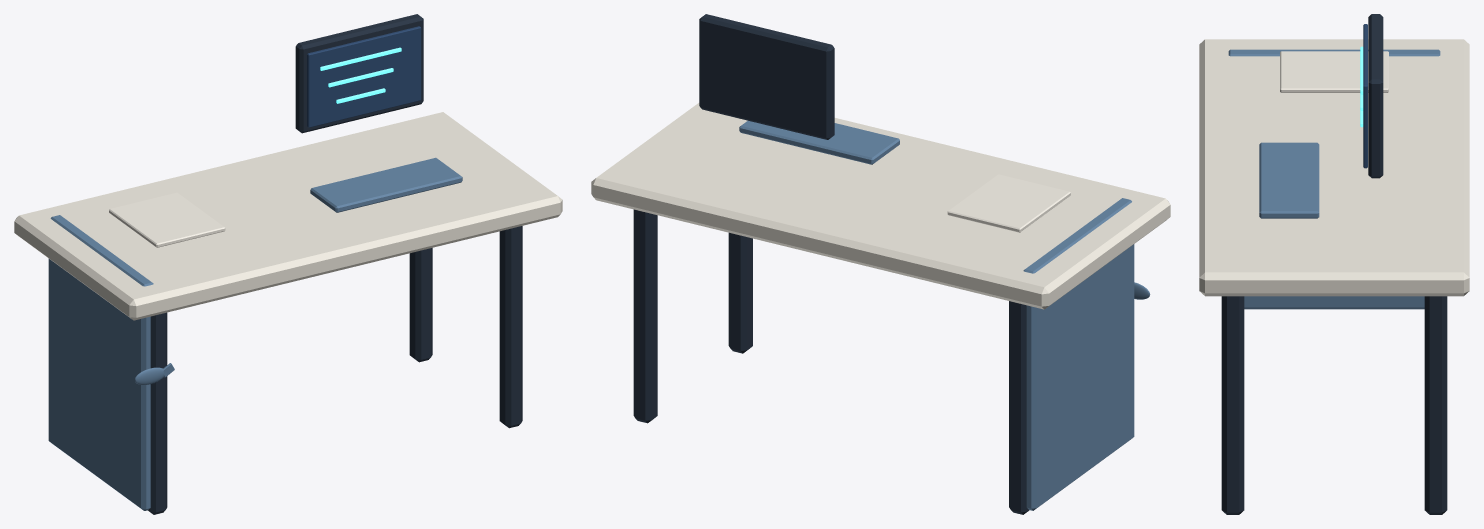
The model's file is clinic_05.glb.
3 views of the same model, side by side, from view 1: azimuth 30°, elevation 25°; view 2: azimuth 150°, elevation 25°; view 3: azimuth 270°, elevation 25° (orthographic). The views are drawn at different scales.
Parts seen in each view (by area): view 1: TableTop, PrivacyReturn, Leg (×3), Screen, Keyboard, RecordFolder, MonitorFrame; view 2: TableTop, PrivacyReturn, MonitorFrame, Leg (×3), RecordFolder, Keyboard; view 3: TableTop, Leg (×2), Keyboard, RecordFolder, PrivacyReturn, MonitorFrame, Screen.
Boxes of the visible parts, left/top/right/bottom form: TableTop: left=14, top=112, right=562, bottom=320; PrivacyReturn: left=48, top=215, right=153, bottom=510; Leg (×3): left=148, top=226, right=522, bottom=514; Screen: left=307, top=26, right=421, bottom=127; Keyboard: left=310, top=157, right=462, bottom=212; RecordFolder: left=109, top=192, right=225, bottom=247; MonitorFrame: left=295, top=14, right=423, bottom=133; TableTop: left=591, top=103, right=1170, bottom=309; PrivacyReturn: left=1023, top=198, right=1134, bottom=510; MonitorFrame: left=699, top=14, right=834, bottom=139; Leg (×3): left=633, top=209, right=1029, bottom=514; RecordFolder: left=947, top=174, right=1070, bottom=232; Keyboard: left=739, top=120, right=899, bottom=164; TableTop: left=1199, top=39, right=1469, bottom=296; Leg (×2): left=1221, top=296, right=1447, bottom=514; Keyboard: left=1259, top=142, right=1319, bottom=218; RecordFolder: left=1280, top=51, right=1388, bottom=92; PrivacyReturn: left=1228, top=49, right=1440, bottom=309; MonitorFrame: left=1368, top=14, right=1383, bottom=178; Screen: left=1363, top=24, right=1367, bottom=168.
Size of the model in its own units: 1.5 by 1.22 by 0.72.
